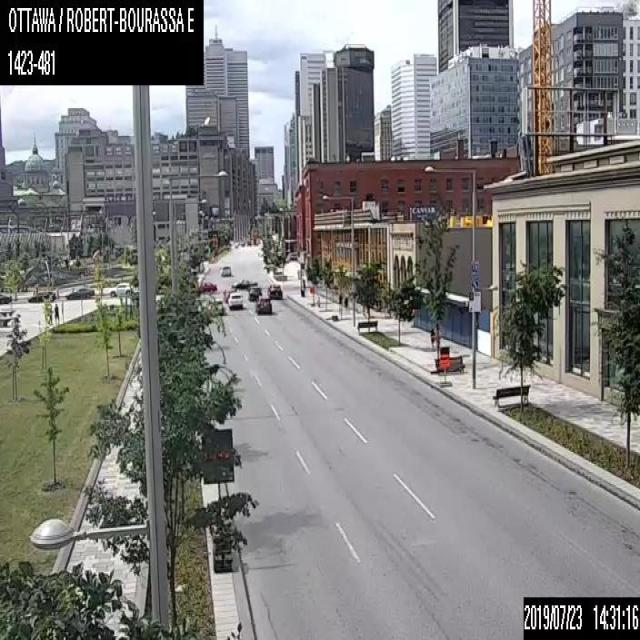construction: (200, 428, 233, 571), (437, 351, 450, 385)
pedestrian: (429, 327, 436, 349), (52, 303, 59, 324), (336, 291, 342, 312), (300, 276, 305, 296), (343, 294, 348, 310)
vehicle: (109, 279, 131, 297), (230, 276, 257, 290), (27, 288, 55, 301), (66, 287, 94, 300), (254, 295, 272, 314), (198, 280, 218, 293), (266, 282, 282, 298), (227, 291, 242, 308), (248, 285, 261, 301), (0, 290, 14, 302), (219, 264, 231, 276)
